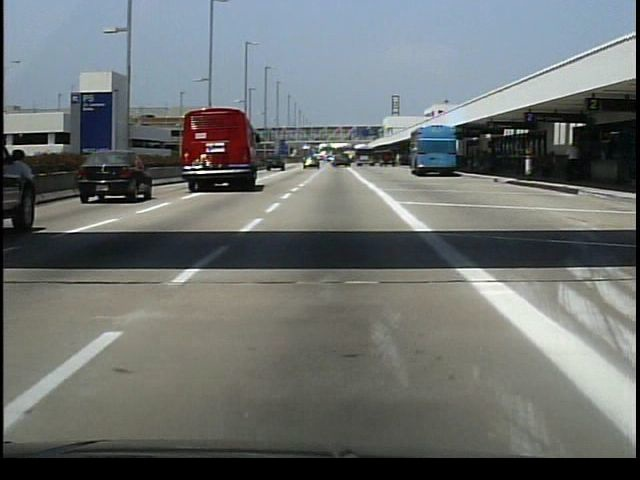person: (565, 139, 584, 184)
